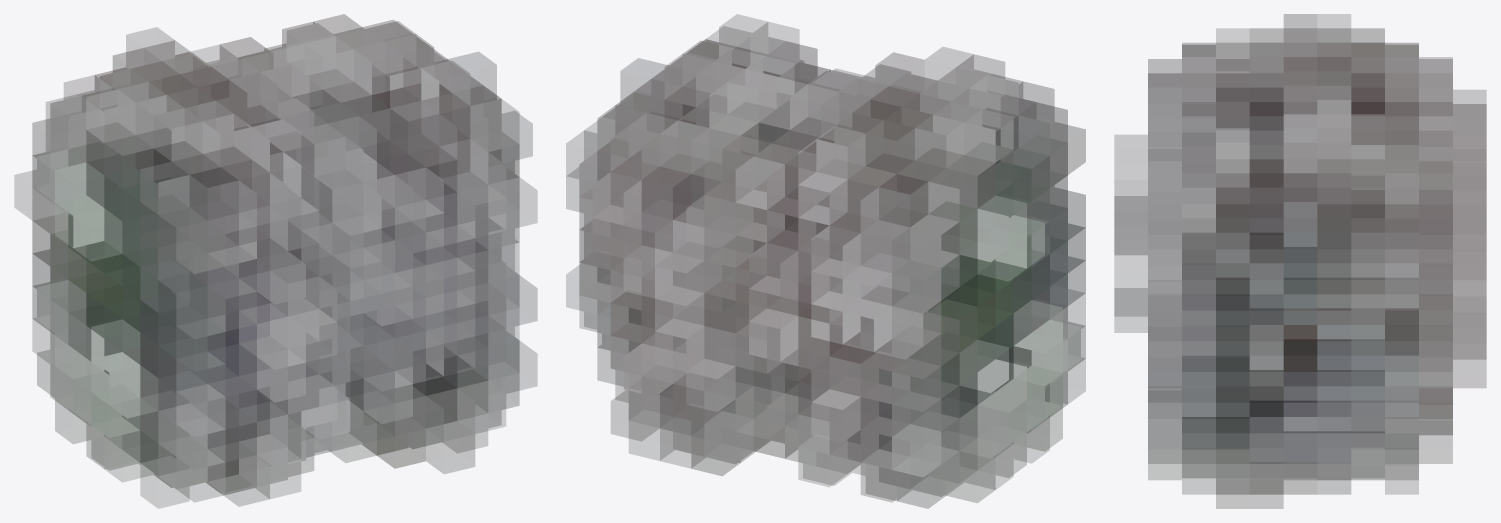
File: iter_15.obj
The picture shows the model from 3 angles, left to right: view 1: azimuth 30°, elevation 25°; view 2: azimuth 150°, elevation 25°; view 3: azimuth 270°, elevation 25°; orthographic projection. The views are drawn at different scales.
Parts seen in each view (by area): view 1: iter_15; view 2: iter_15; view 3: iter_15.
Boxes of the visible parts, <box> form: iter_15: <box>15,14,537,508</box>; iter_15: <box>566,14,1085,508</box>; iter_15: <box>1114,14,1486,508</box>.
Bounding box in the file's own units: 1.3 × 1.1 × 1.1.
